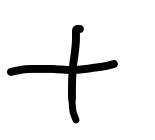plus: (6, 26, 115, 121)
